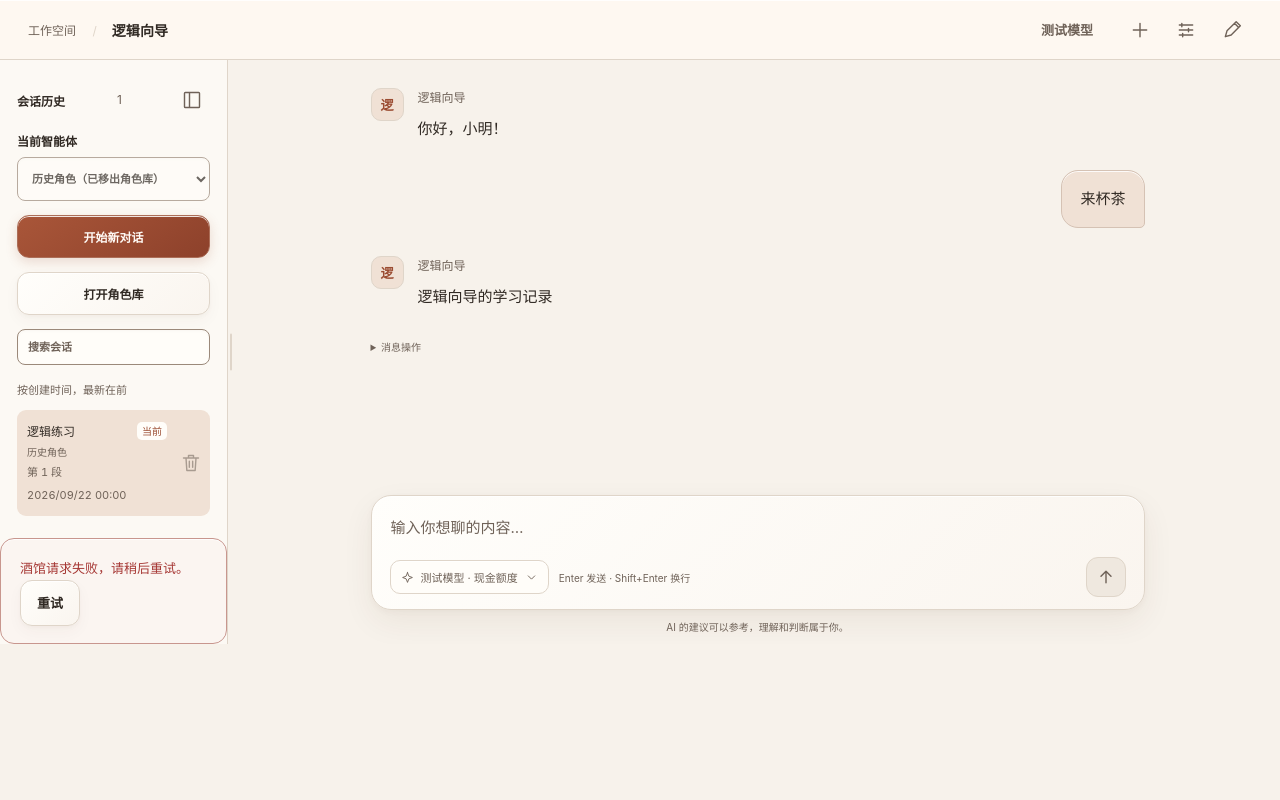
Test: shows a role library loading failure and allows retry without creating a conversation
Expected: the text "逻辑向导的学习记录" is shown, x1=418 y1=286 x2=552 y2=306
Step 1. Click the button "重试" → (50, 603), box x1=20 y1=580 x2=80 y2=626
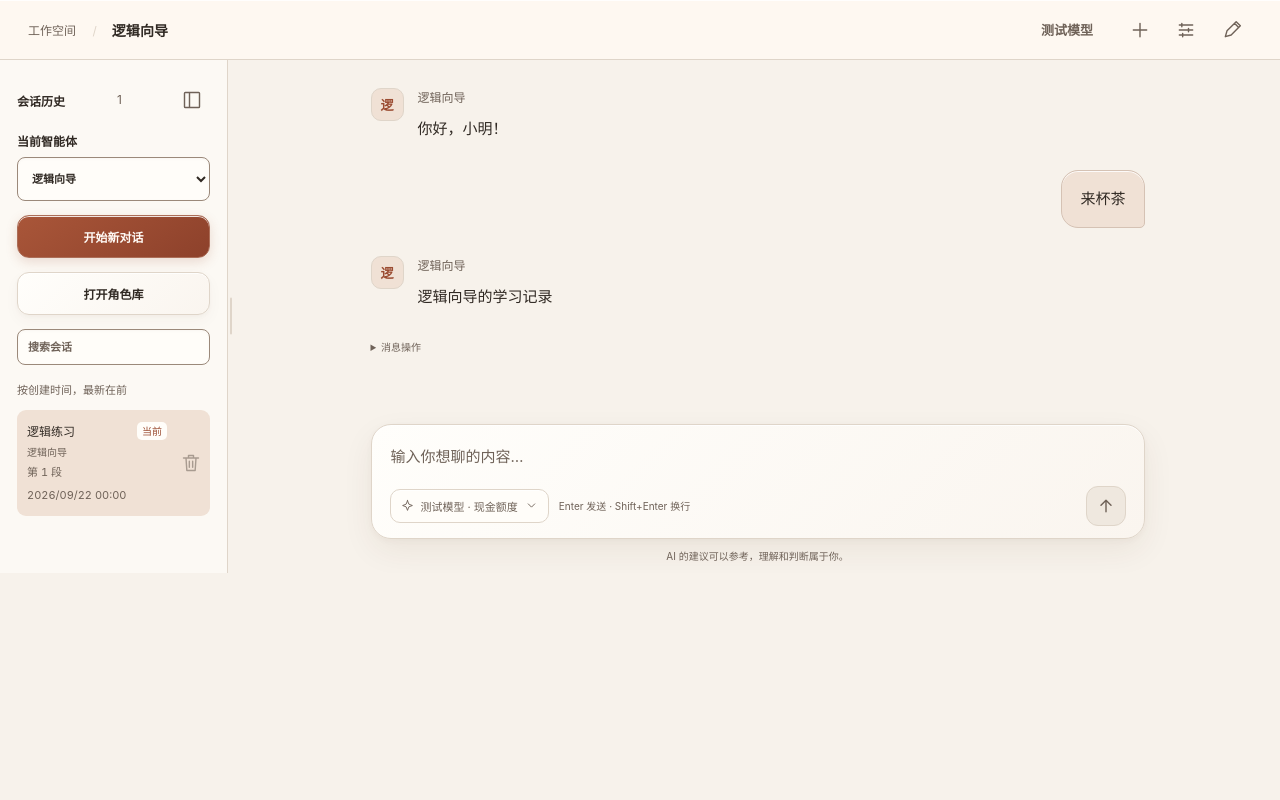
Expected: the message "酒馆请求失败，请稍后重试。 重试" is gone
